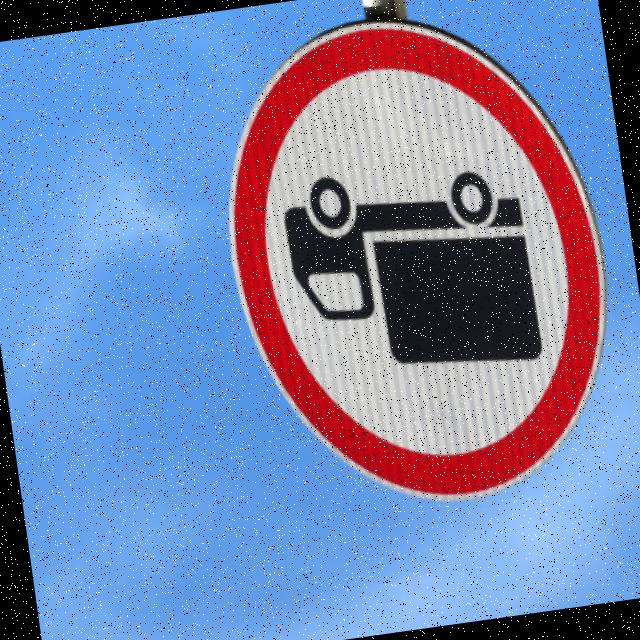do_not_enter: (191, 0, 634, 547)
